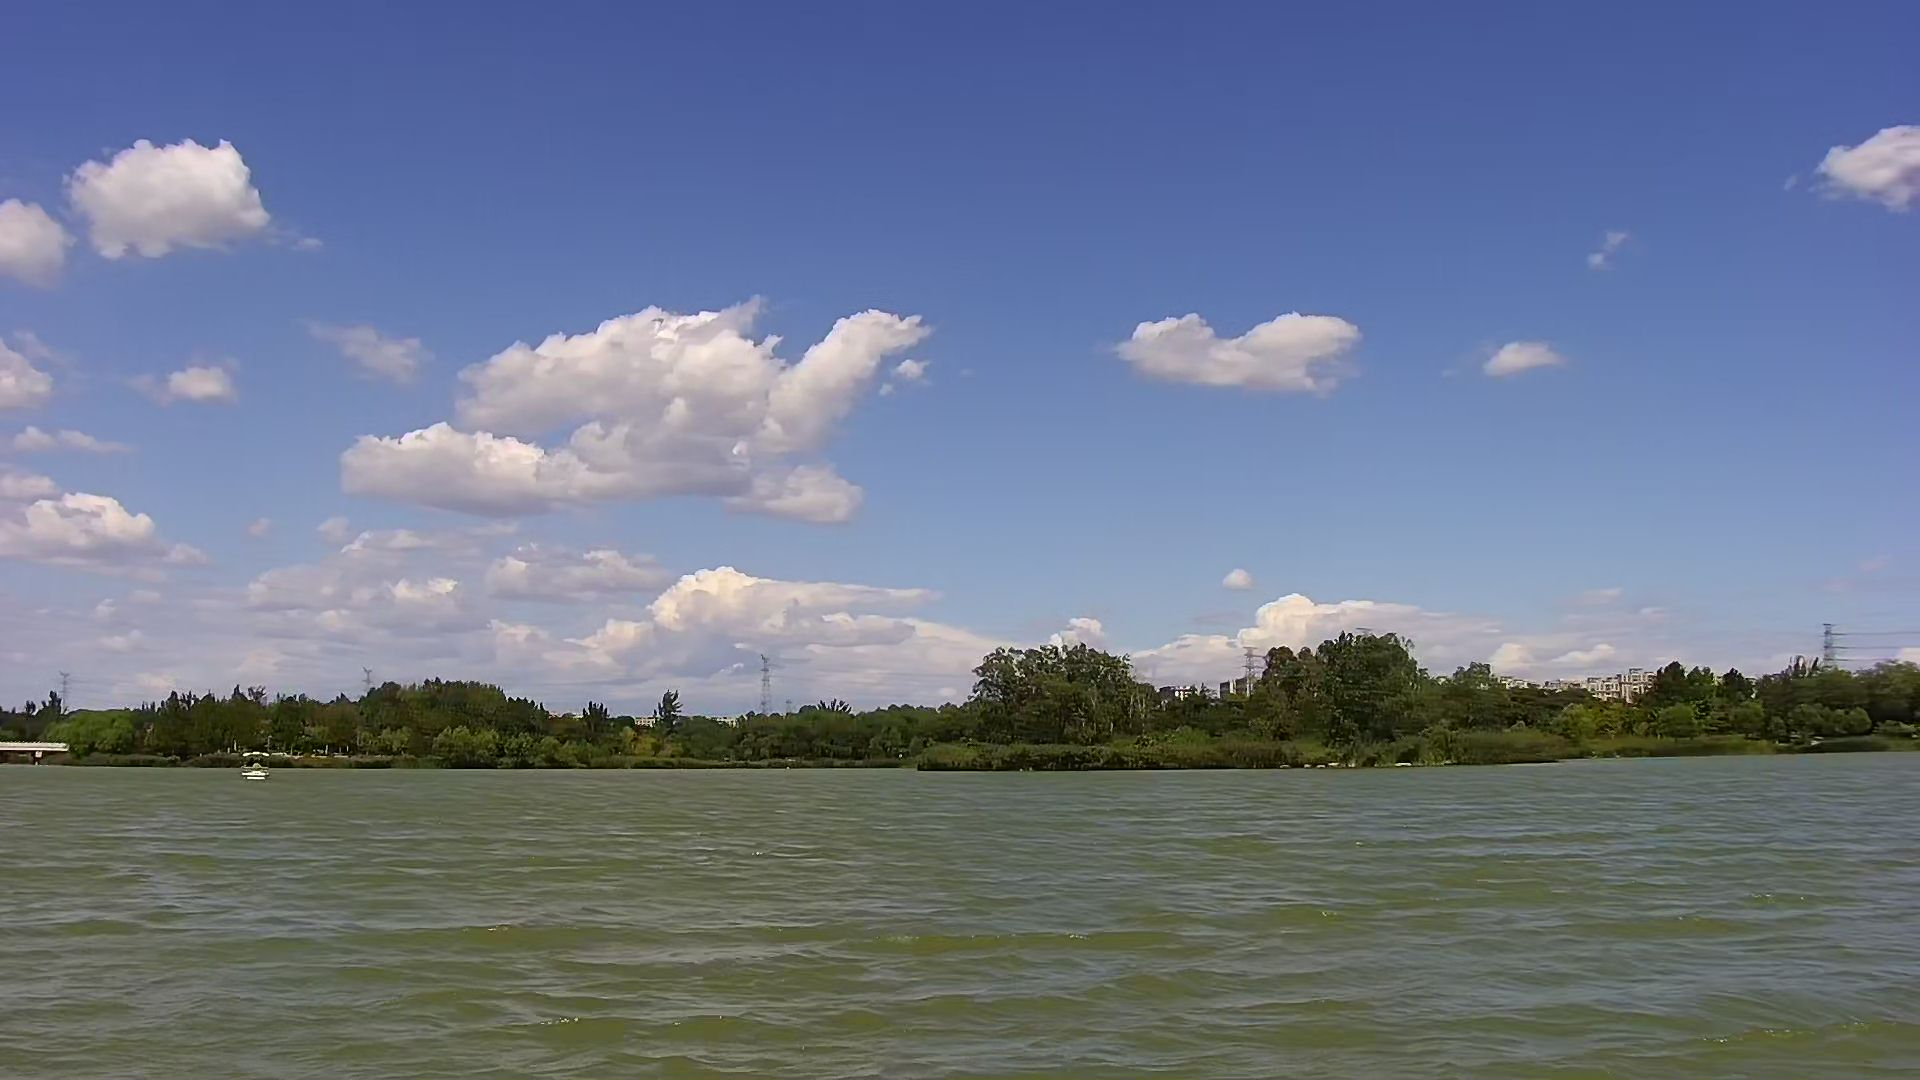boat: (235, 740, 277, 790)
bridge: (1, 723, 73, 767)
